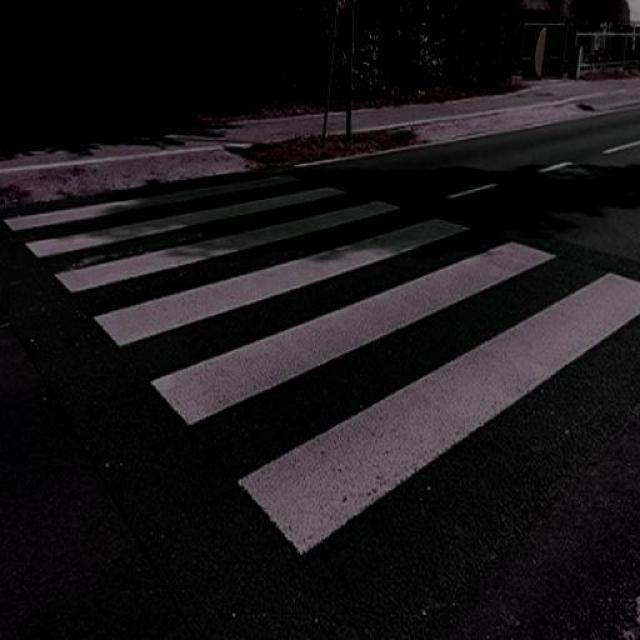crosswalk: (2, 169, 640, 561)
